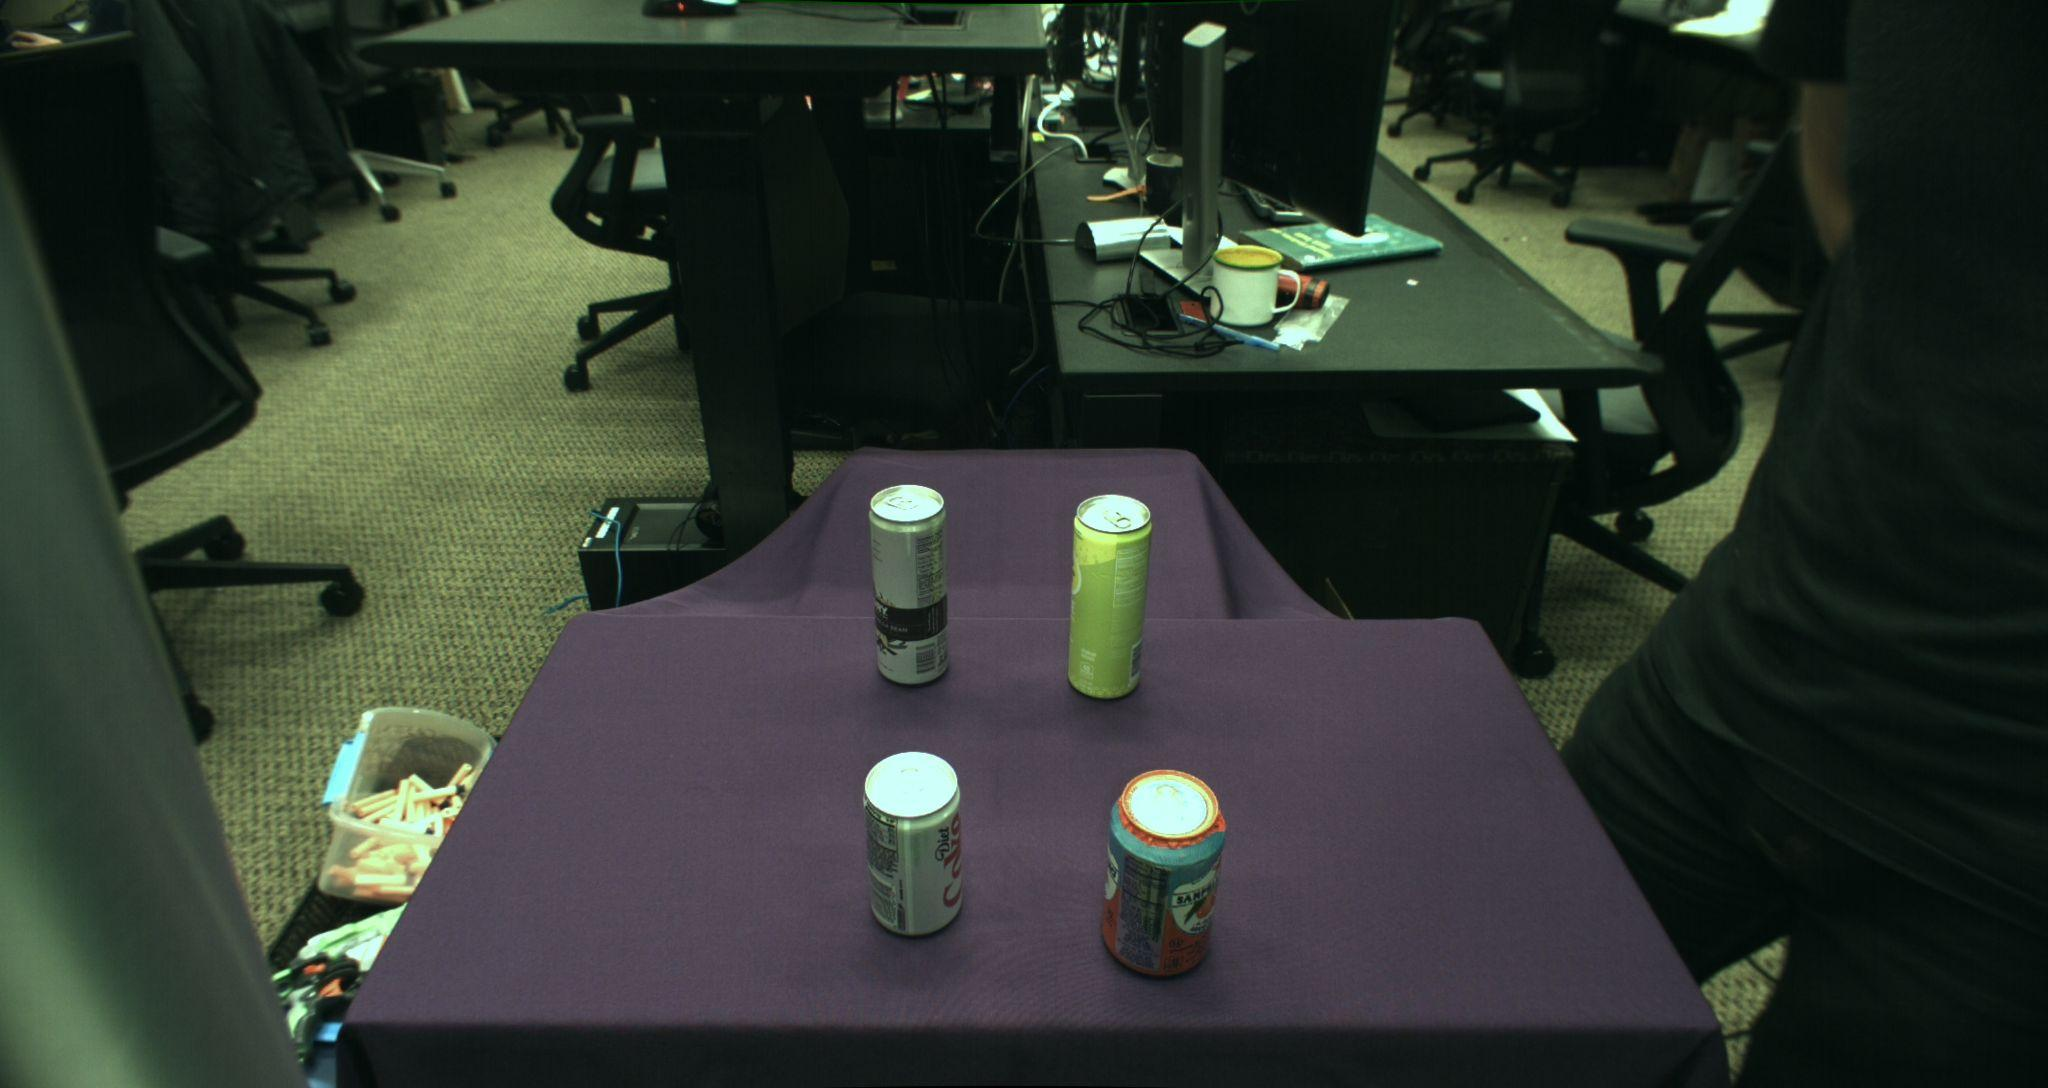can_diet_coke_small: (863, 752, 964, 936)
can_dry_sparkling_vanilla_bean: (868, 484, 950, 686)
can_izze_fusions_lemon_lime: (1067, 492, 1151, 699)
can_sanpellegrino_blood_orange: (1101, 767, 1226, 978)
